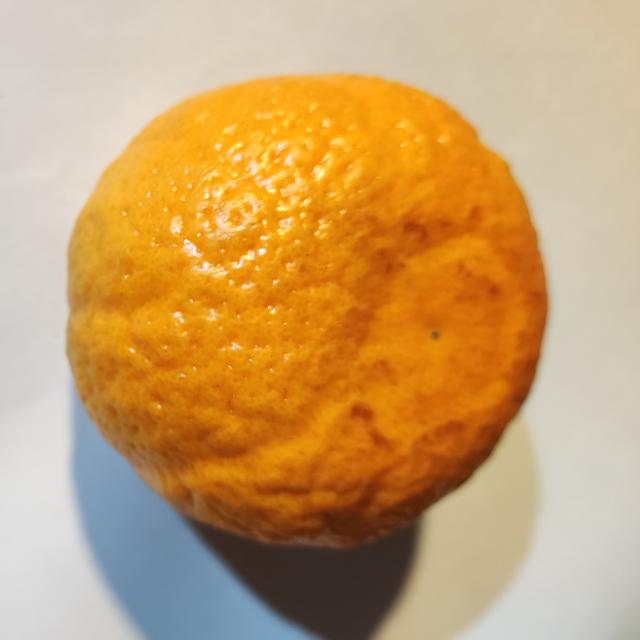orange: (68, 76, 545, 545)
